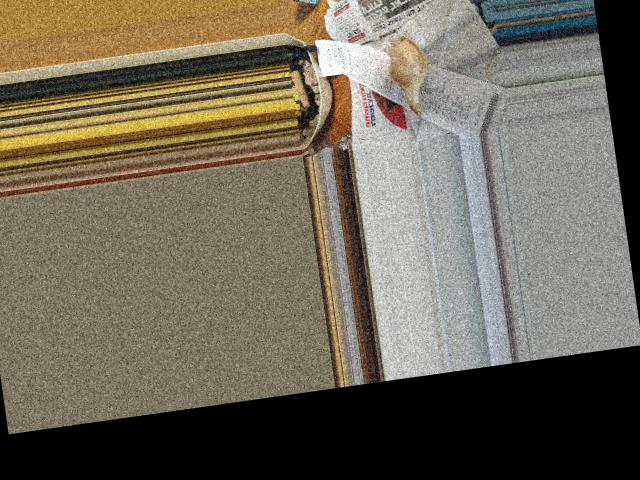onion: (388, 35, 431, 95)
